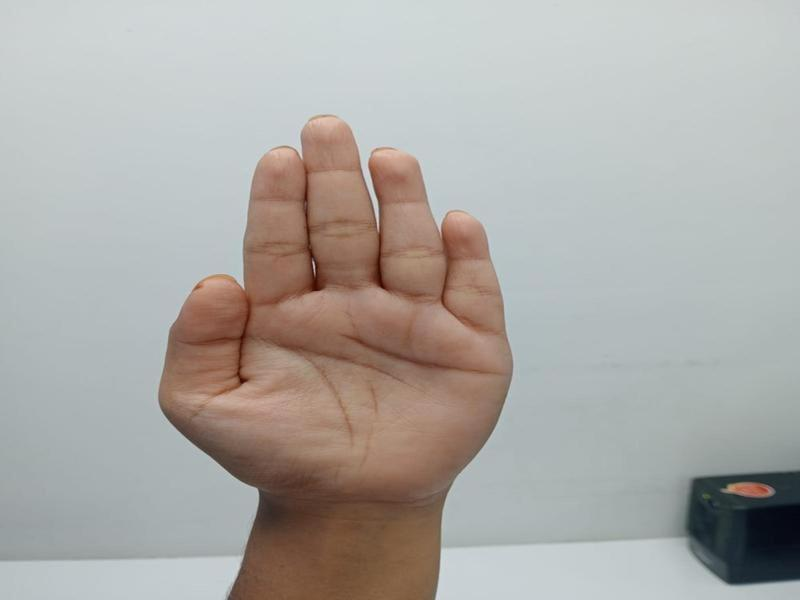REVERSE: (151, 107, 518, 600)
